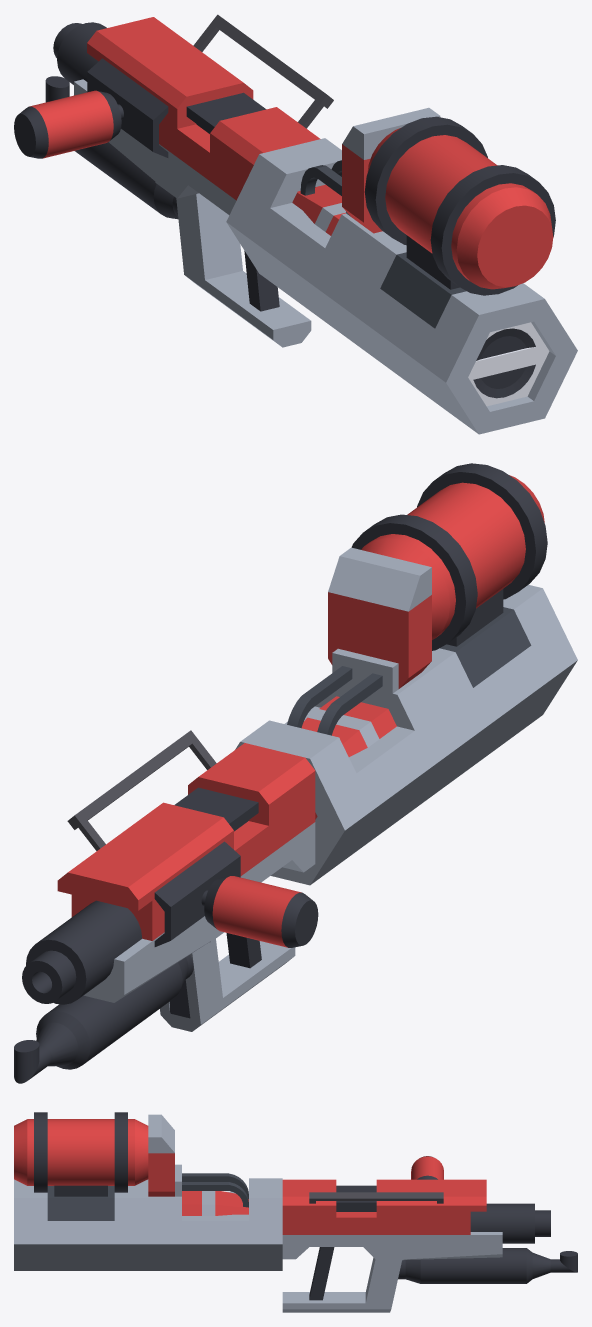
File: fire_1.glb
3 views of the same model, one above another, from view 1: azimuth 30°, elevation 25°; view 2: azimuth 150°, elevation 25°; view 3: azimuth 270°, elevation 25° (orthographic). The views are drawn at different scales.
Visible parts, largest first — view 1: attachment_barrel, pipe_straight, blaster_handleGuard, pipe_open, blaster_barrel, attachment_handle, detail_ventRoundSmall, blaster_back, detail_exhaustVertical, machine_barrel, detail_fence_support; view 2: blaster_barrel, blaster_handleGuard, attachment_barrel, pipe_open, pipe_straight, blaster_back, attachment_handle, detail_exhaustVertical, machine_barrel, detail_fence_support; view 3: blaster_handleGuard, pipe_straight, blaster_barrel, attachment_barrel, pipe_open, detail_exhaustVertical, machine_barrel, blaster_back, detail_fence_support, attachment_handle.
Boxes of the visible parts, <box> form: attachment_barrel: <box>364,116,555,295</box>; pipe_straight: <box>336,231,577,434</box>; blaster_handleGuard: <box>155,66,320,347</box>; pipe_open: <box>226,138,373,353</box>; blaster_barrel: <box>53,17,230,190</box>; attachment_handle: <box>14,58,168,158</box>; detail_ventRoundSmall: <box>468,322,549,406</box>; blaster_back: <box>342,107,440,233</box>; detail_exhaustVertical: <box>45,76,178,219</box>; machine_barrel: <box>292,160,350,235</box>; detail_fence_support: <box>193,14,333,128</box>; blaster_barrel: <box>22,811,222,1004</box>; blaster_handleGuard: <box>140,743,315,1031</box>; attachment_barrel: <box>351,463,547,650</box>; pipe_open: <box>235,672,461,885</box>; pipe_straight: <box>422,584,577,799</box>; blaster_back: <box>328,547,431,688</box>; attachment_handle: <box>154,841,318,947</box>; detail_exhaustVertical: <box>14,955,193,1083</box>; machine_barrel: <box>287,648,398,834</box>; detail_fence_support: <box>67,730,216,850</box>; blaster_handleGuard: <box>282,1179,403,1312</box>; pipe_straight: <box>14,1179,148,1270</box>; blaster_barrel: <box>390,1179,550,1260</box>; attachment_barrel: <box>14,1112,148,1196</box>; pipe_open: <box>148,1178,282,1270</box>; detail_exhaustVertical: <box>398,1248,577,1283</box>; machine_barrel: <box>175,1164,248,1215</box>; blaster_back: <box>148,1114,174,1196</box>; detail_fence_support: <box>309,1192,443,1203</box>; attachment_handle: <box>411,1156,443,1179</box>.
Bounding box in the file's own units: 1.13 × 1.6 × 4.2.
